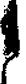Reed: (1, 1, 24, 84)
